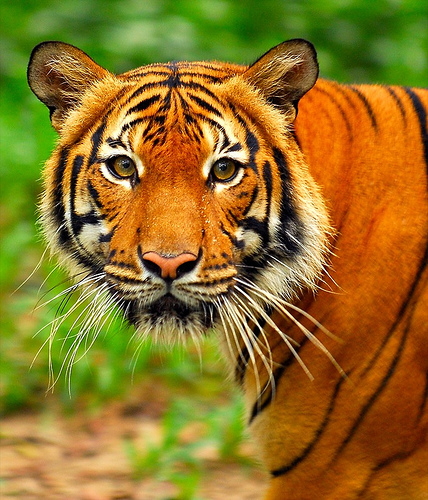Tigre: (11, 21, 428, 489)
